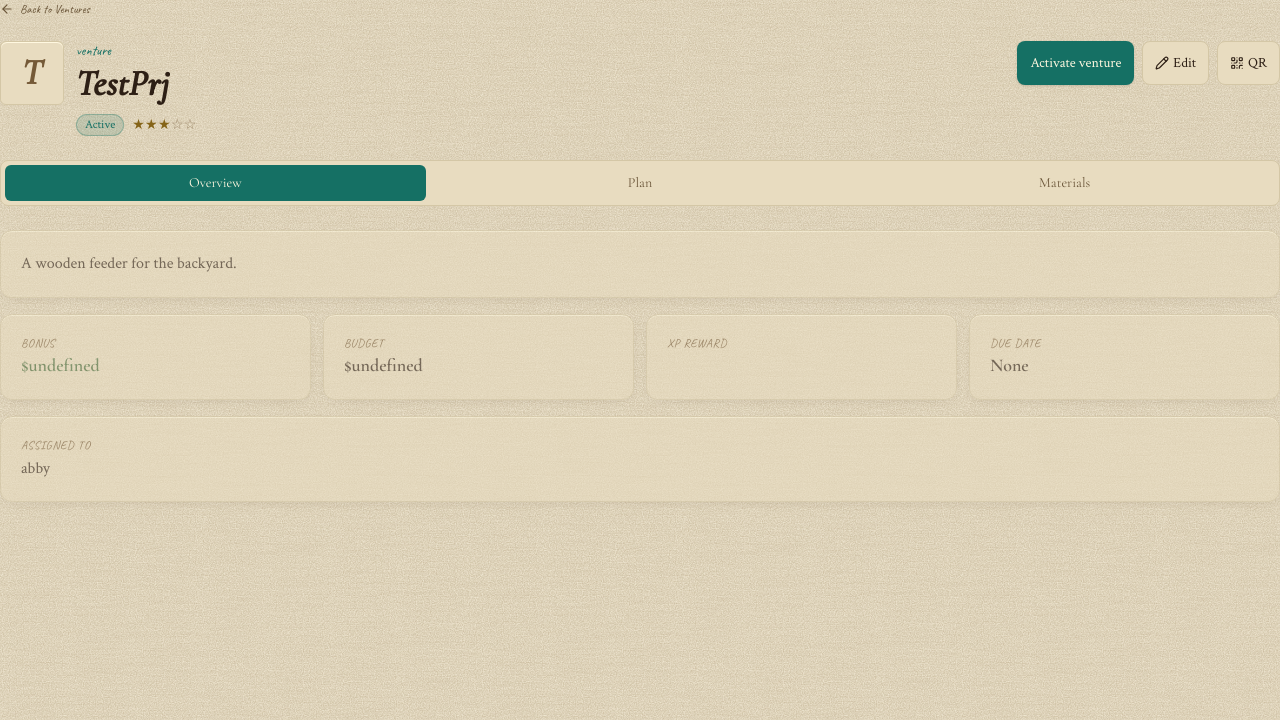
Scenario: ProjectDetail › surfaces a failed milestone delete instead of looking like a success
Check: the heading "TestPrj" is shown, box [76,62,169,105]
Click the tab "Plan" at point(640, 183), box [430,165,850,201]
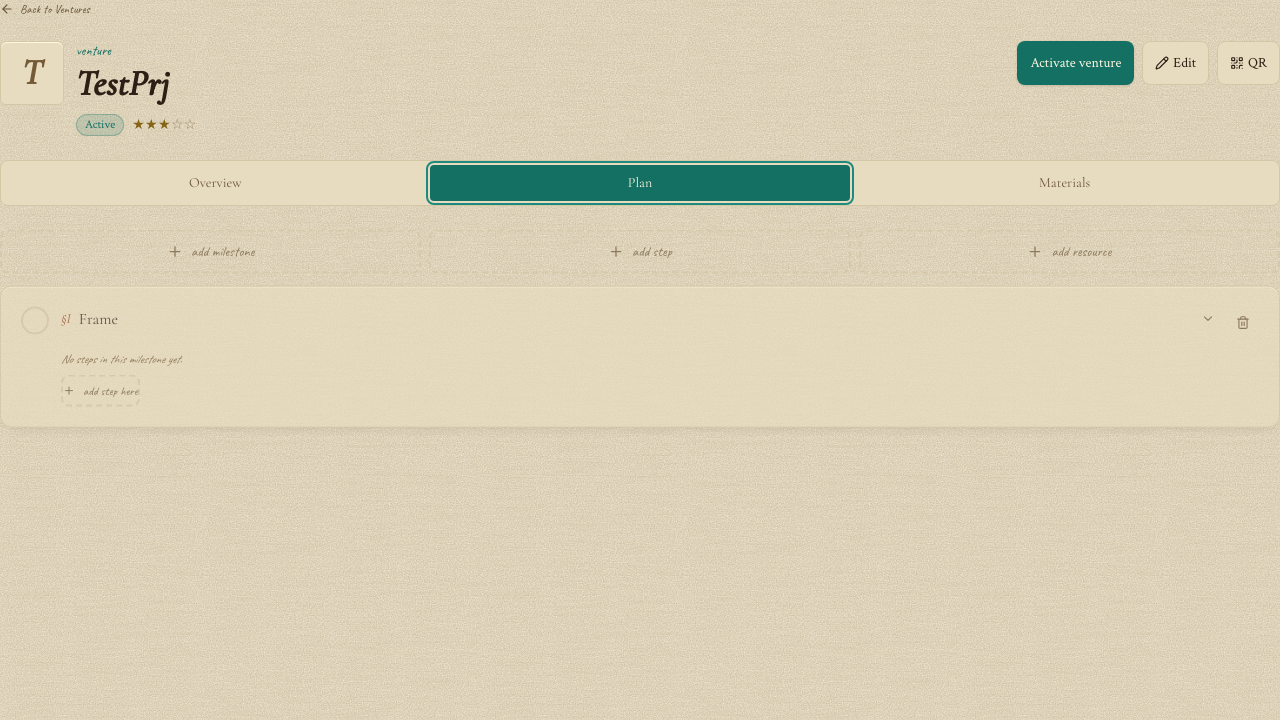
Click the button named "delete milestone" at point(1243, 323), box [1221,301,1265,345]
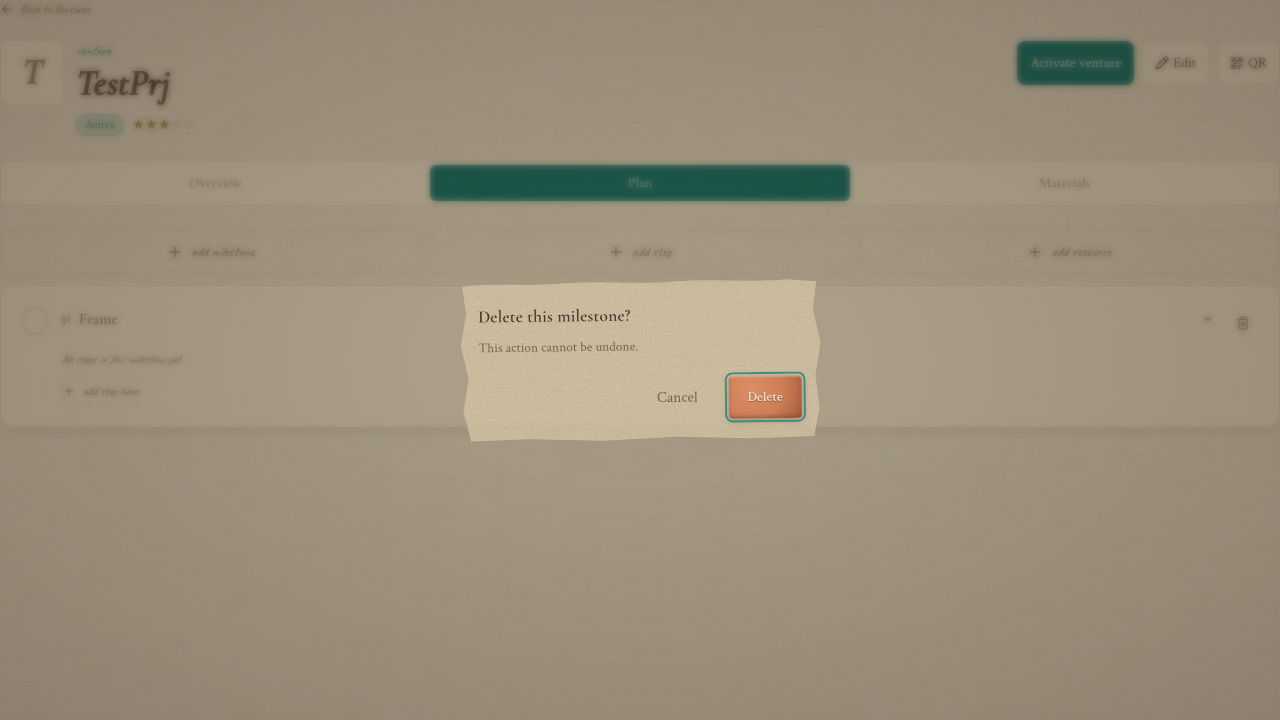
Click the button "Delete" at point(765, 396), box [728,375,802,418]
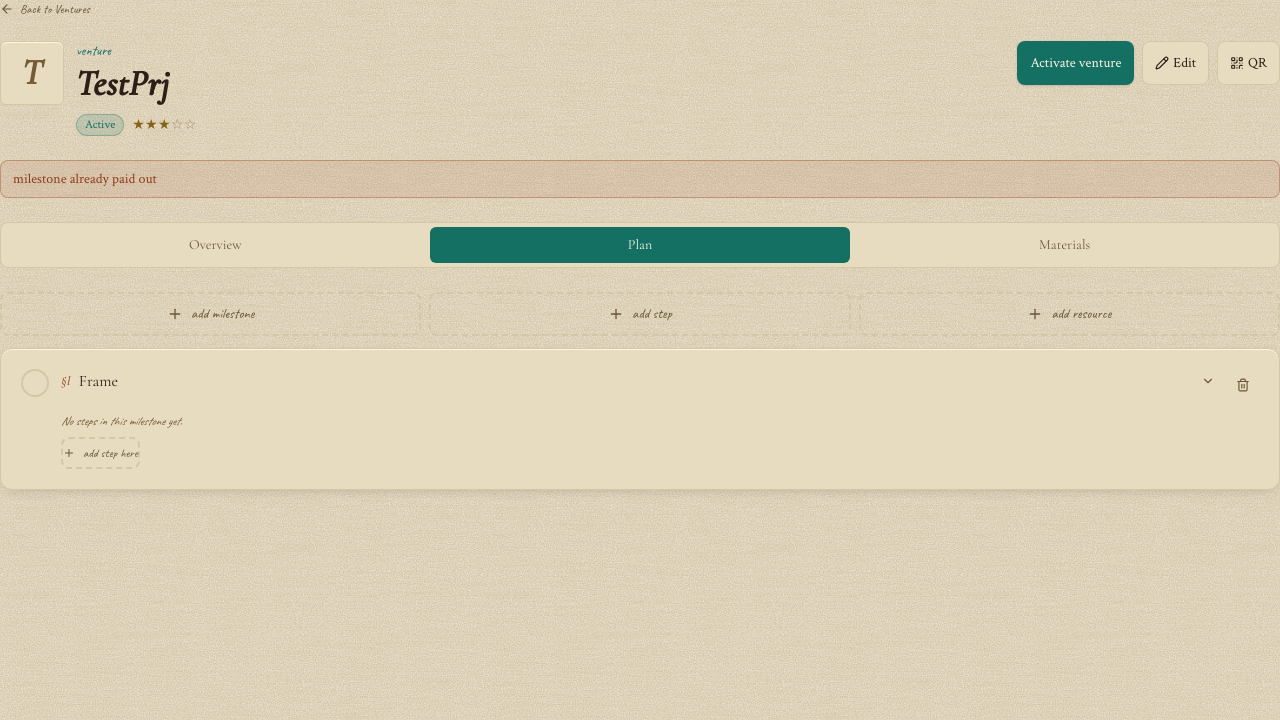
Check: the message shows "already paid out", box [13,170,157,188]
